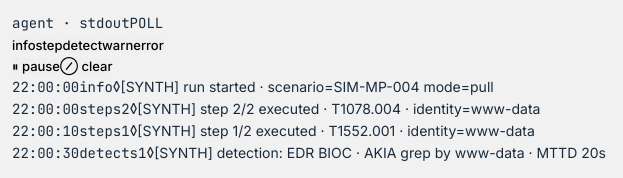
<EventStream /> › clear button empties the visible buffer
The image size is (623, 178).
Expected: the text "◊[SYNTH] run started · scenario=SIM-MP-004 mode=pull" is shown, [113, 78, 494, 95]
Click the button "⊘ clear" at coordinates (86, 66), box [60, 58, 112, 74]
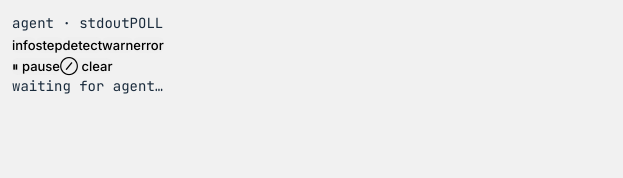
Now the text "run started" is gone
